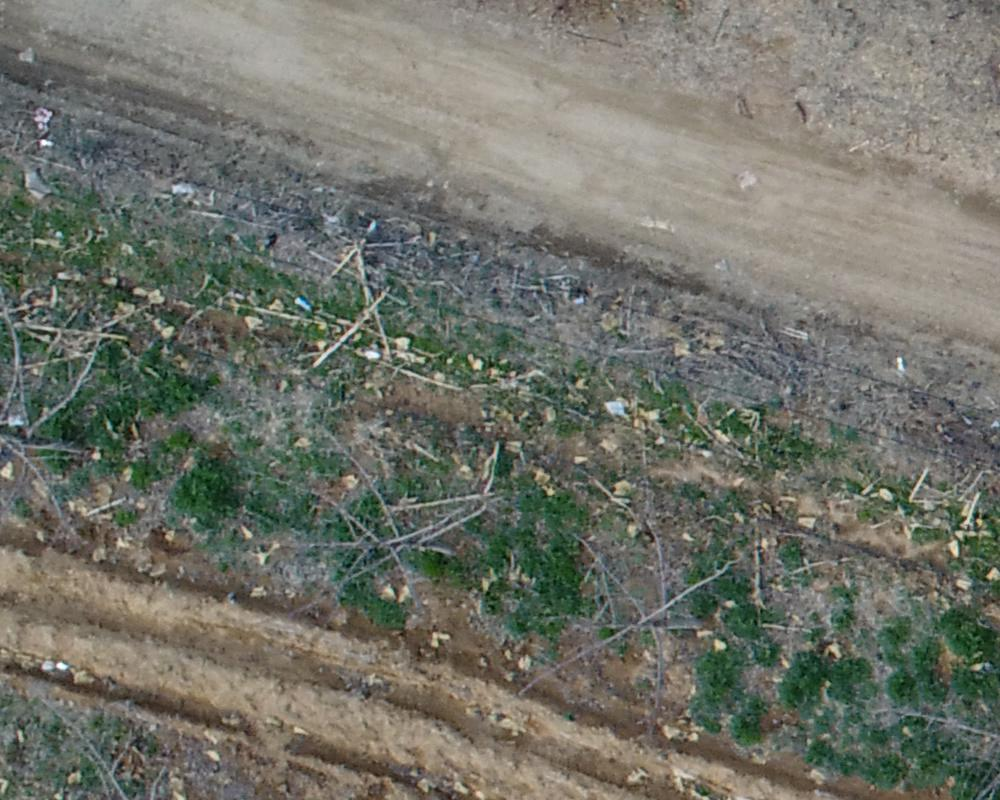apple: (506, 519, 743, 731), (272, 441, 509, 648)
